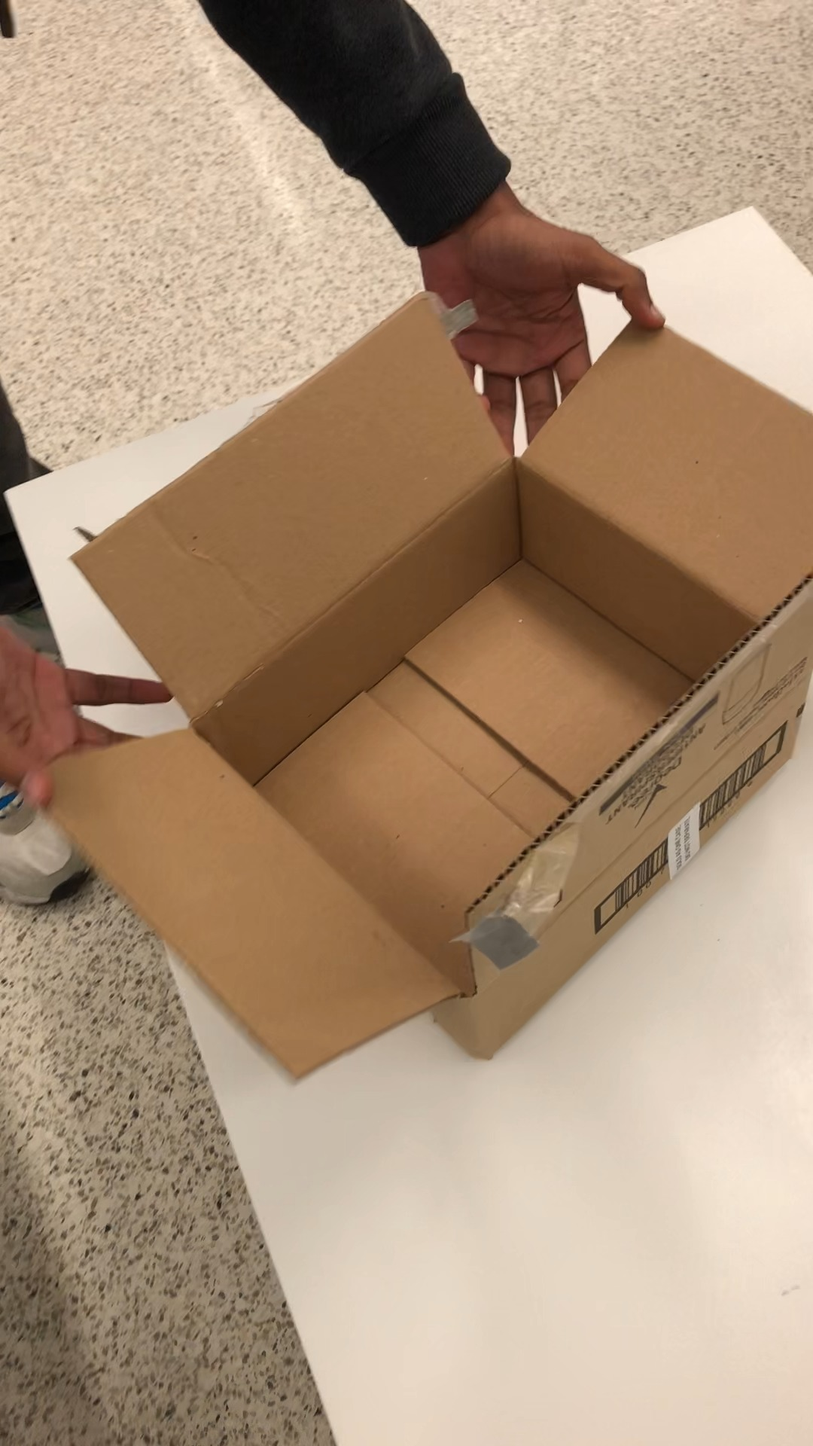box: (40, 290, 813, 1080)
crushed: (38, 289, 813, 1083)
